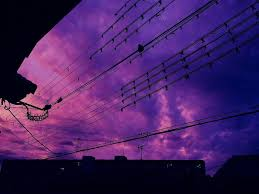sky: (29, 11, 258, 155)
